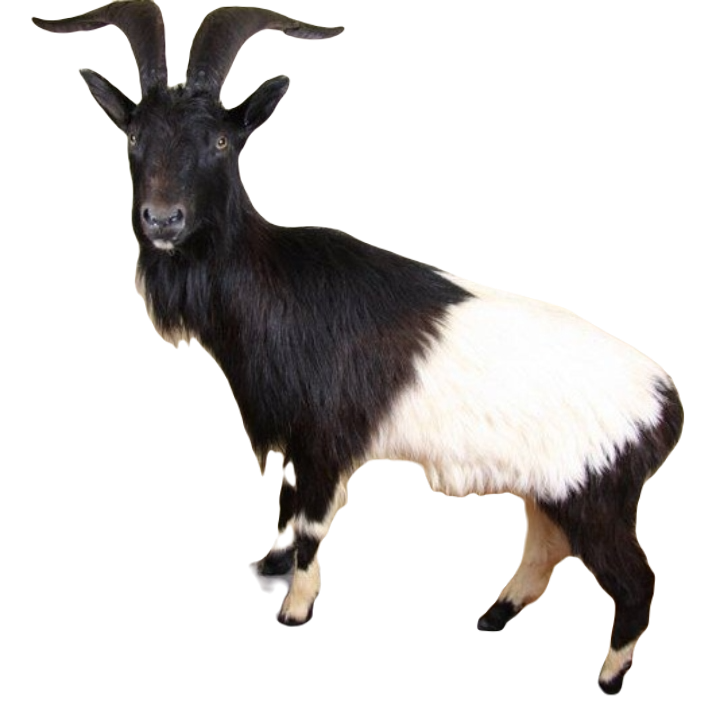Goat: (31, 0, 684, 695)
